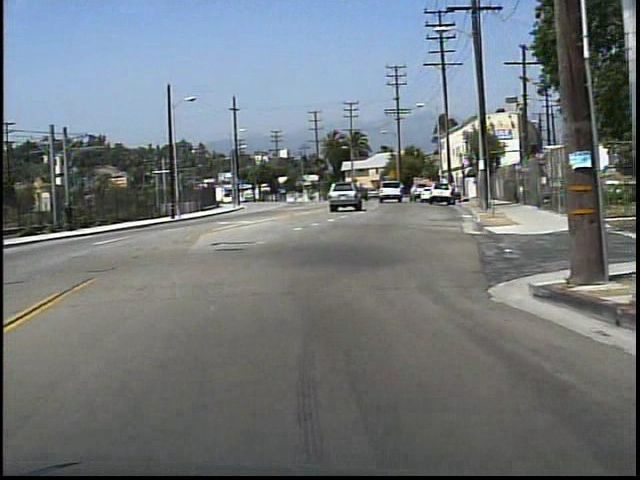person: (65, 199, 81, 234)
